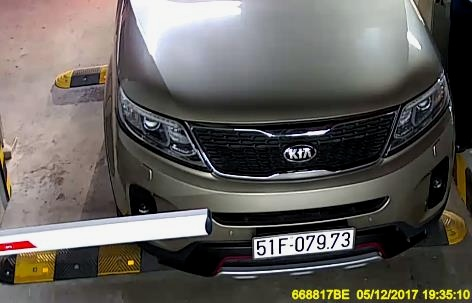plate: (249, 223, 356, 259)
